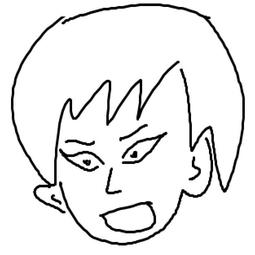ear: (26, 184, 67, 217)
eye: (120, 132, 168, 169), (58, 146, 106, 177)
eyebrow: (62, 134, 104, 149)
frowning_eyebrow: (115, 121, 151, 143)
large_ear: (184, 123, 220, 202)
pointy_nose: (99, 199, 158, 234), (102, 166, 125, 197)
